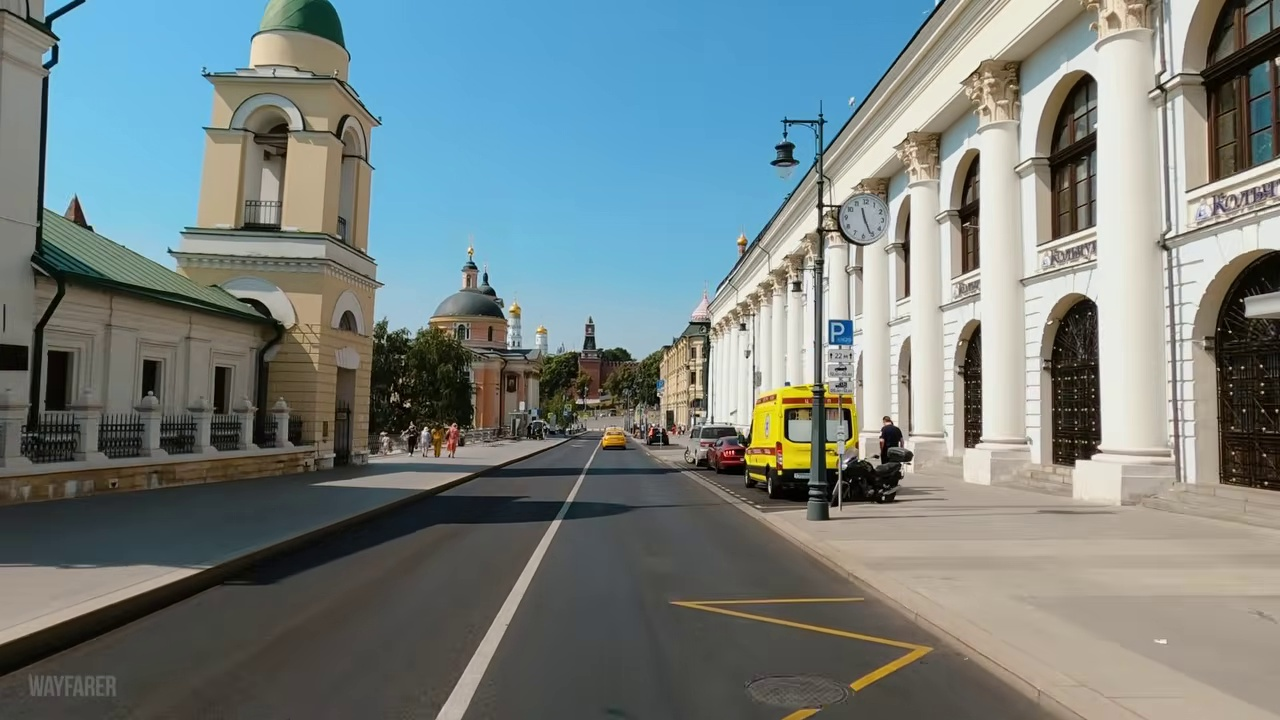apagada: (772, 144, 802, 184)
